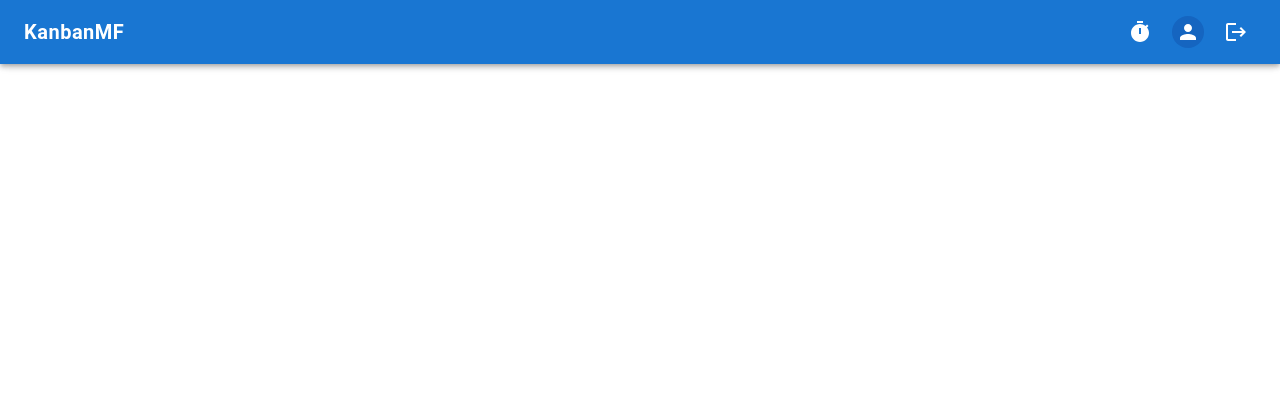
Test case: MainAppBar › a profile that fails to load (6G) › loads the profile with Try again, keeping the menu open
This screenshot has width=1280, height=400.
Click the button named "User profile" at (1188, 32), box left=1168, top=16, right=1208, bottom=48
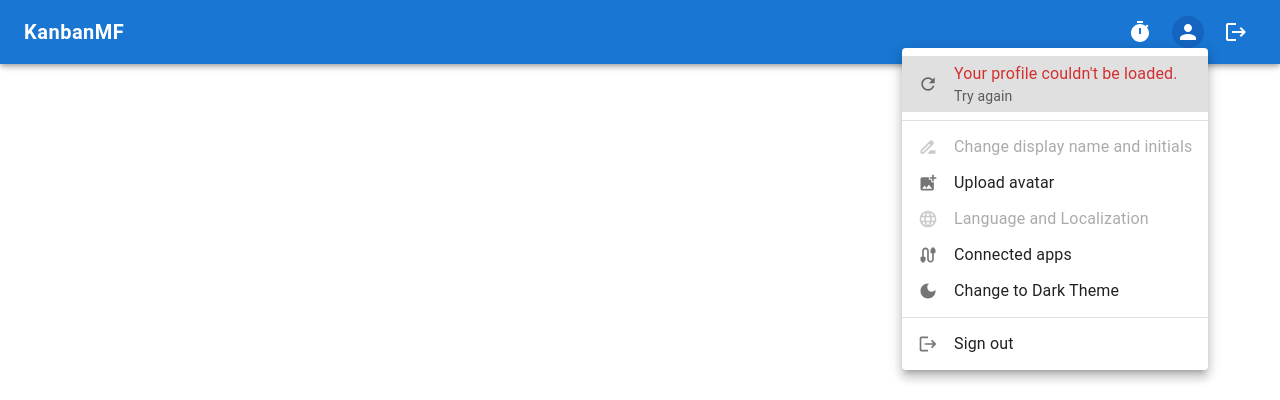
Click the menu item "Your profile couldn't be loaded. Try again" at (1055, 84), box left=902, top=56, right=1208, bottom=112
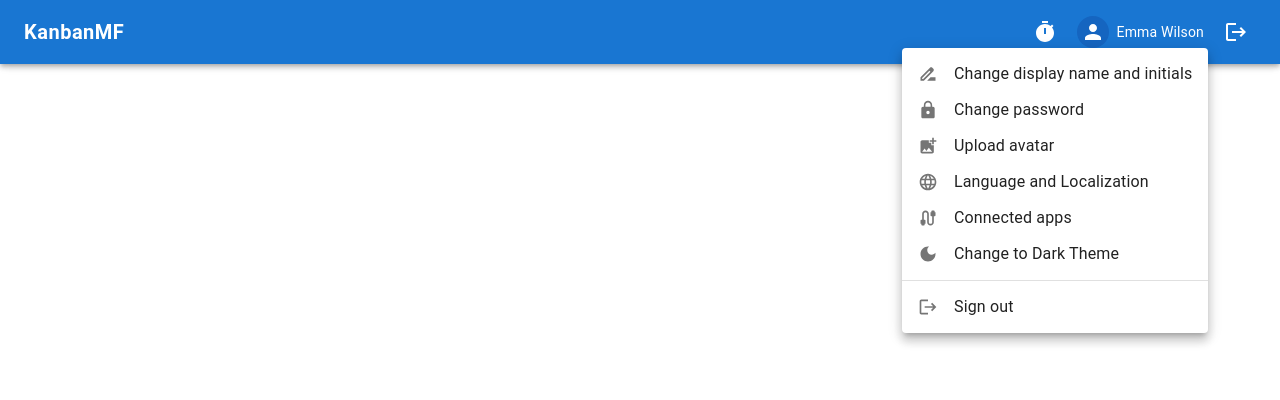
Expected: the menu is shown, left=902, top=48, right=1208, bottom=333
Expected: the text "Emma Wilson" is shown, left=1117, top=22, right=1204, bottom=42
Expected: the menu item "Your profile couldn't be loaded." is gone
